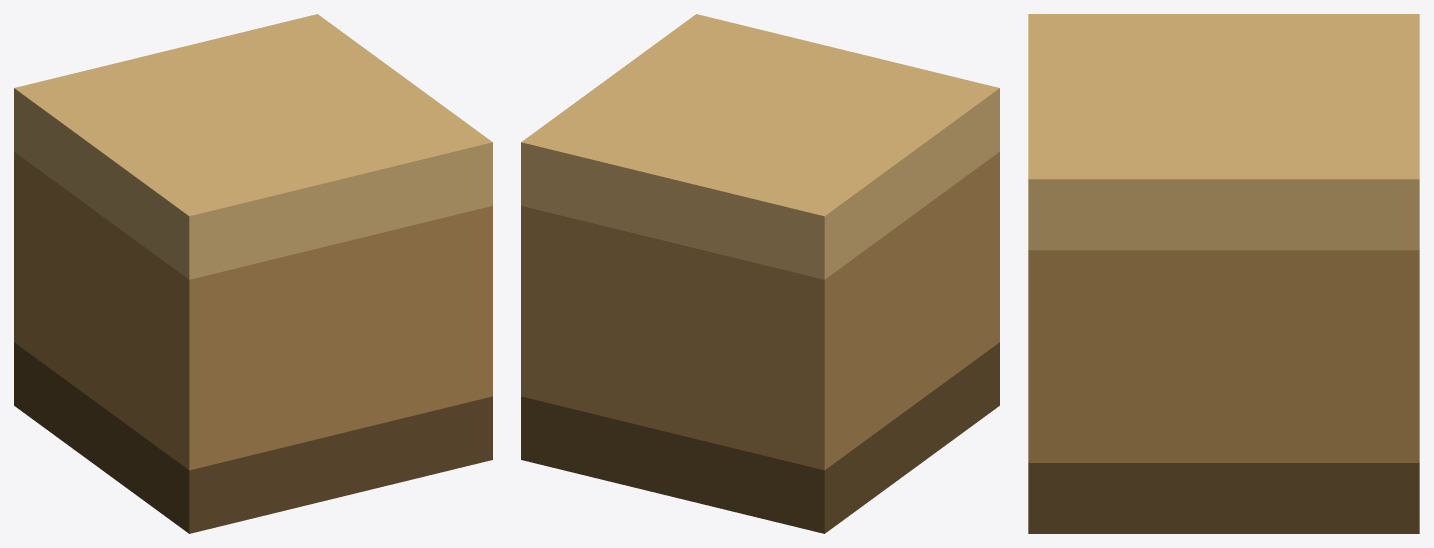
File: brick-sand.obj
3 renders of one model, left to right at view 1: azimuth 30°, elevation 25°; view 2: azimuth 150°, elevation 25°; view 3: azimuth 270°, elevation 25°, orthographic. The views are drawn at different scales.
Bounding box in the file's own units: 1 × 1 × 1.
Materials: 1 (1 with a texture image).
